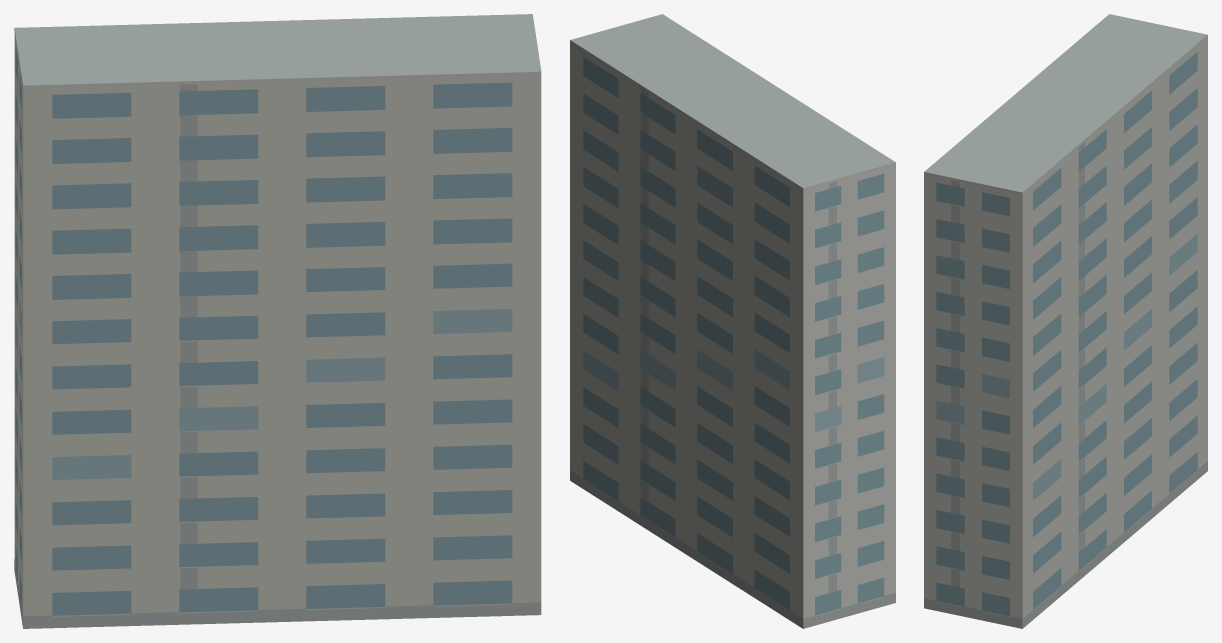
Rendered from residential-d8f88914-7dbe-45cf-83e8-944e1c103d5e.glb.
The picture shows the model from 3 angles, left to right: view 1: azimuth 30°, elevation 25°; view 2: azimuth 150°, elevation 25°; view 3: azimuth 270°, elevation 25°; orthographic projection. The views are drawn at different scales.
Parts seen in each view (by area): view 1: residential-d8f88914-7dbe-45cf-83e8-944e1c103d5e.tmp; view 2: residential-d8f88914-7dbe-45cf-83e8-944e1c103d5e.tmp; view 3: residential-d8f88914-7dbe-45cf-83e8-944e1c103d5e.tmp.
Part boxes in pixels (x1=…): residential-d8f88914-7dbe-45cf-83e8-944e1c103d5e.tmp: x1=14, y1=14, x2=541, y2=628; residential-d8f88914-7dbe-45cf-83e8-944e1c103d5e.tmp: x1=570, y1=14, x2=895, y2=628; residential-d8f88914-7dbe-45cf-83e8-944e1c103d5e.tmp: x1=924, y1=14, x2=1207, y2=628.
Size of the model in its own units: 35.98 by 41 by 24.18.
